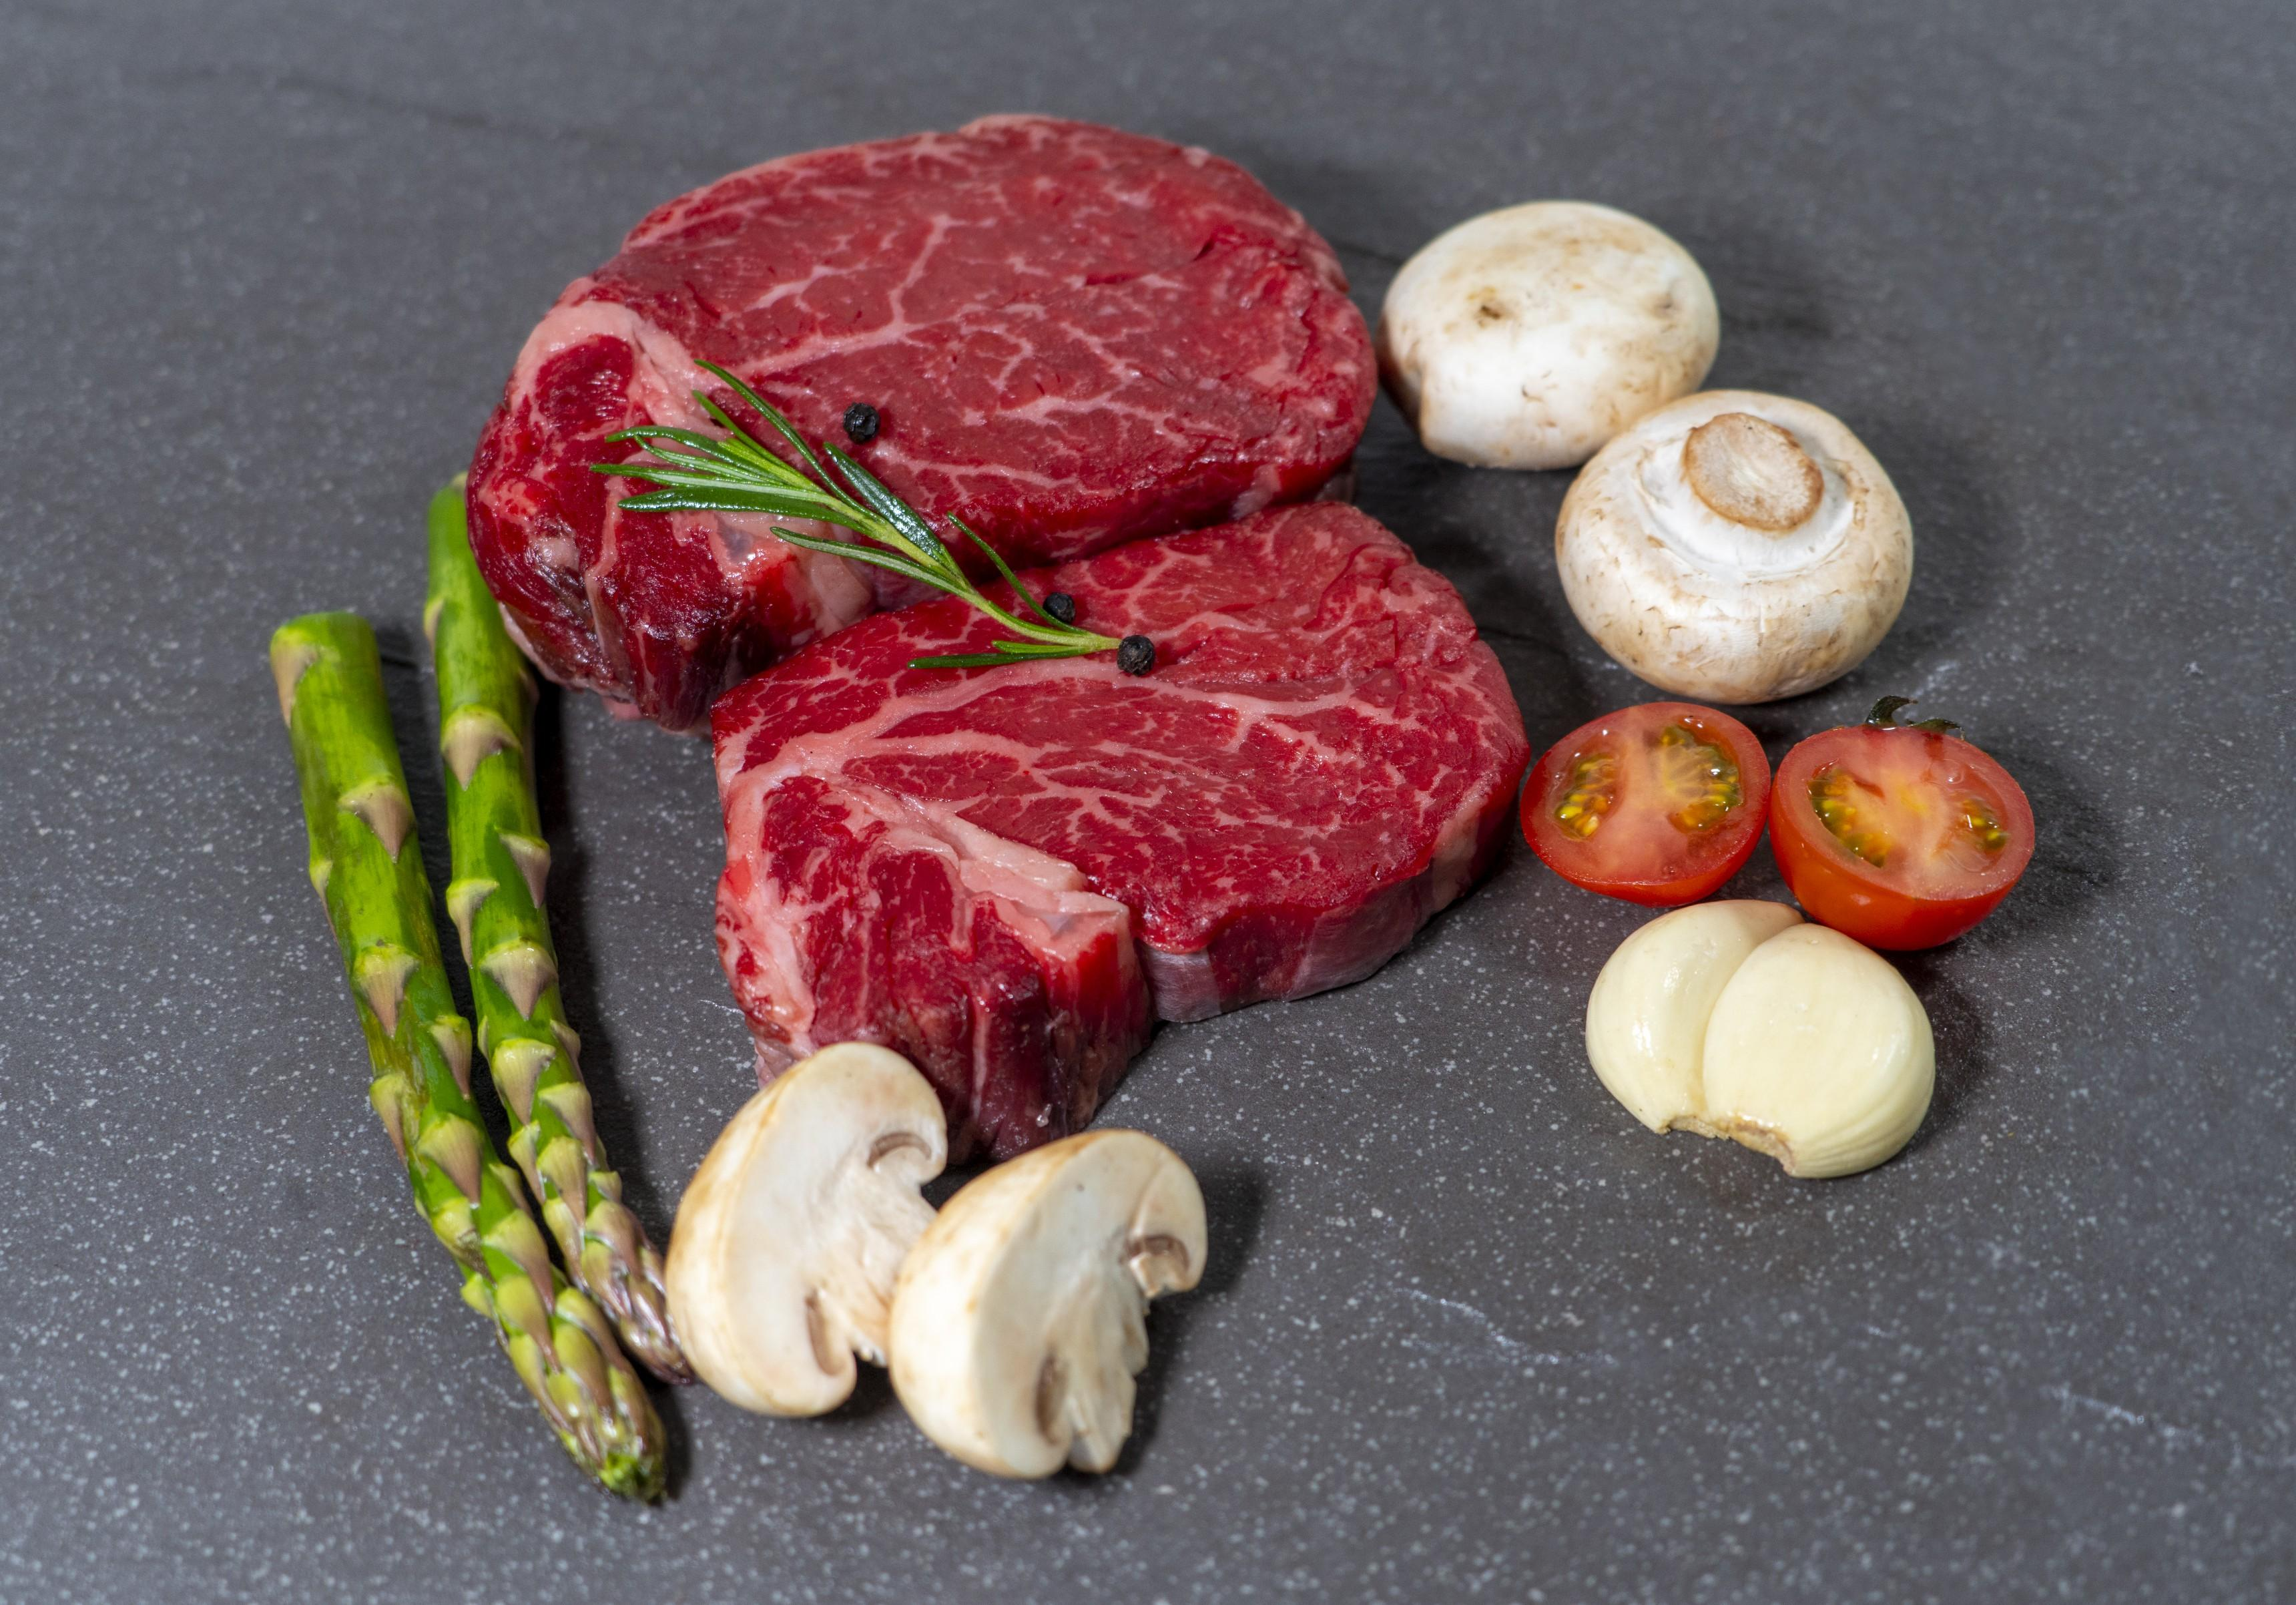beef: (1148, 609, 2296, 1605), (1148, 975, 2296, 1605)
